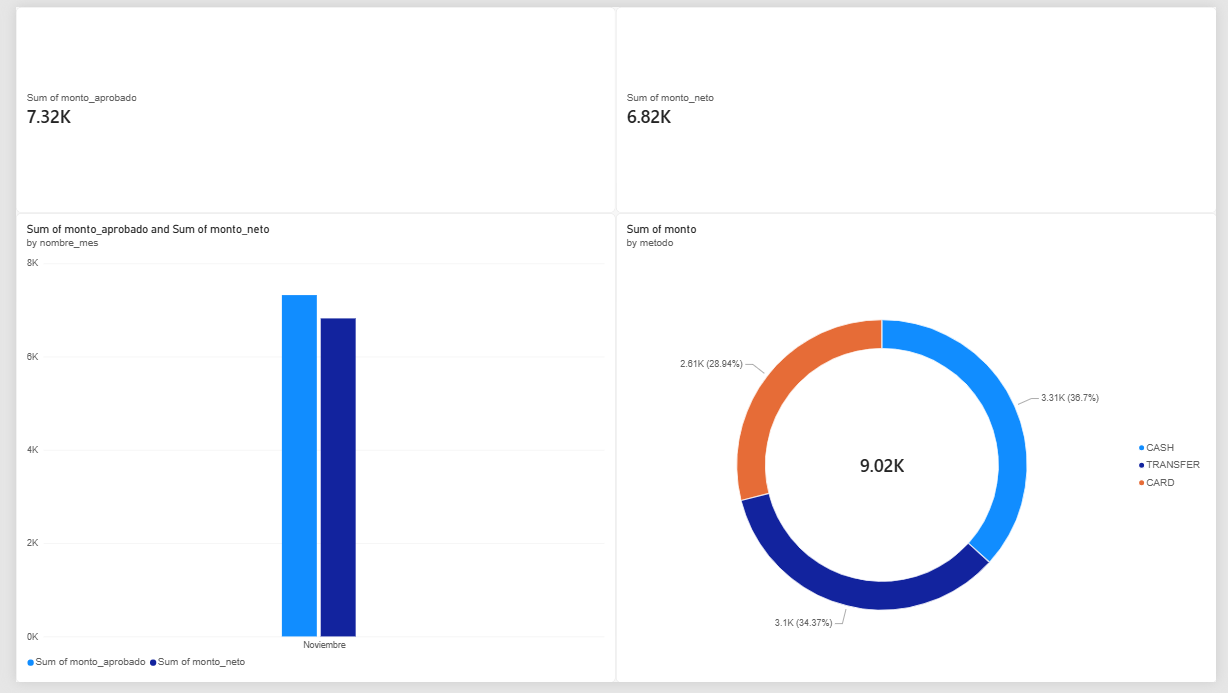

The page's visual inventory and layout, read from the dashboard file:
{"tool":"powerbi","page":{"name":"Ingresos","canvas":[1920,1080],"ordinal":0},"visuals":[{"type":"cardVisual","fields":{"Data":["Sum(bi ingresos_por_mes.monto_aprobado)"]},"box":[0,0,959.2,329.3],"z":0},{"type":"cardVisual","fields":{"Data":["Sum(bi ingresos_por_mes.monto_neto)"]},"box":[959.2,0,961.2,329.3],"z":1000},{"type":"clusteredColumnChart","fields":{"Category":["bi dim_fechas.nombre_mes"],"Y":["Sum(bi ingresos_por_mes.monto_aprobado)","Sum(bi ingresos_por_mes.monto_neto)"]},"box":[0,329.3,959.2,751.3],"z":2000},{"type":"donutChart","fields":{"Category":["bi pagos_por_metodo_estado.metodo"],"Y":["Sum(bi pagos_por_metodo_estado.monto)"]},"box":[959.2,329.3,961.2,751.3],"z":3000}]}

Visuals, with their boxes in screenshot pixels (x1, y1, x2, y2), scaled from the page's 1920x1080 canvas onto the 1228x693 screenshot:
cardVisual - Sum(bi ingresos_por_mes.monto_aprobado): <box>0,0,613,211</box>
cardVisual - Sum(bi ingresos_por_mes.monto_neto): <box>613,0,1227,211</box>
clusteredColumnChart - bi dim_fechas.nombre_mes x Sum(bi ingresos_por_mes.monto_aprobado): <box>0,211,613,692</box>
donutChart - bi pagos_por_metodo_estado.metodo x Sum(bi pagos_por_metodo_estado.monto): <box>613,211,1227,692</box>
